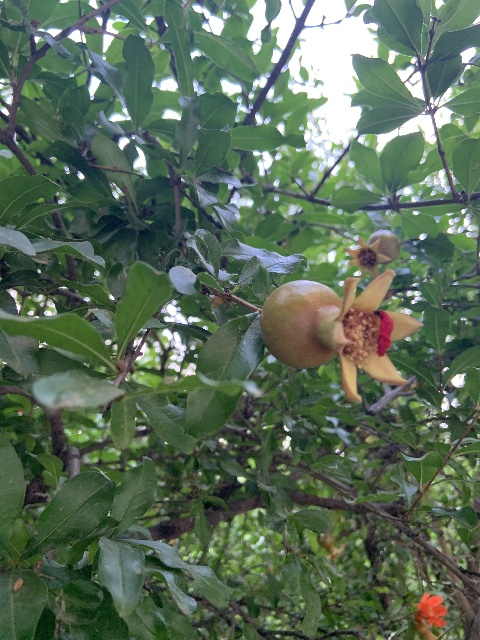early-fruit: (258, 269, 426, 402), (345, 231, 400, 279), (319, 532, 345, 560)
flower: (413, 593, 446, 627)
